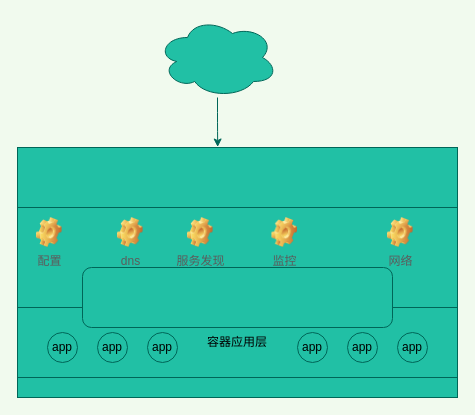
Image size: 475x415. Some labels were removed from this diagram. Each missing label, with the centre of its shape:
"kubernetes" belongs at point 237,297.
"UI plane 、 command" belongs at point 237,177.
"底层硬件" belongs at point 237,387.
